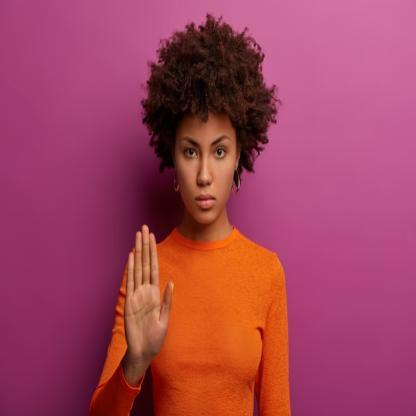stop: (123, 220, 176, 363)
